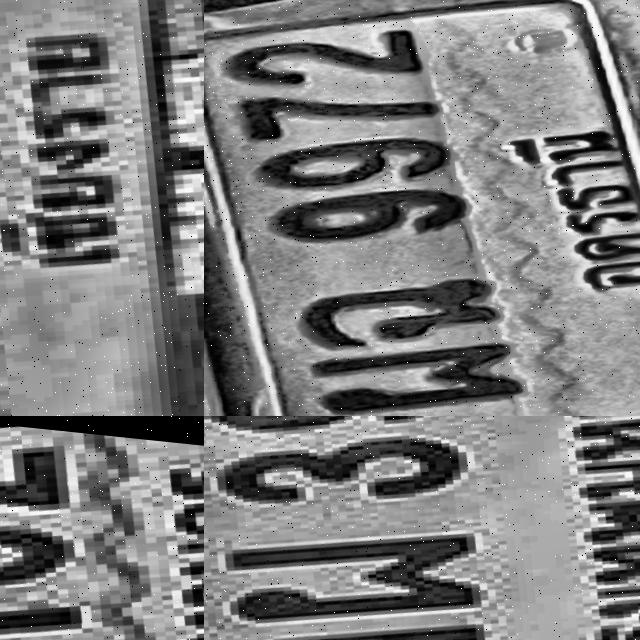license-plate: (204, 0, 640, 416), (204, 416, 640, 640), (0, 0, 204, 416), (0, 416, 204, 640)
